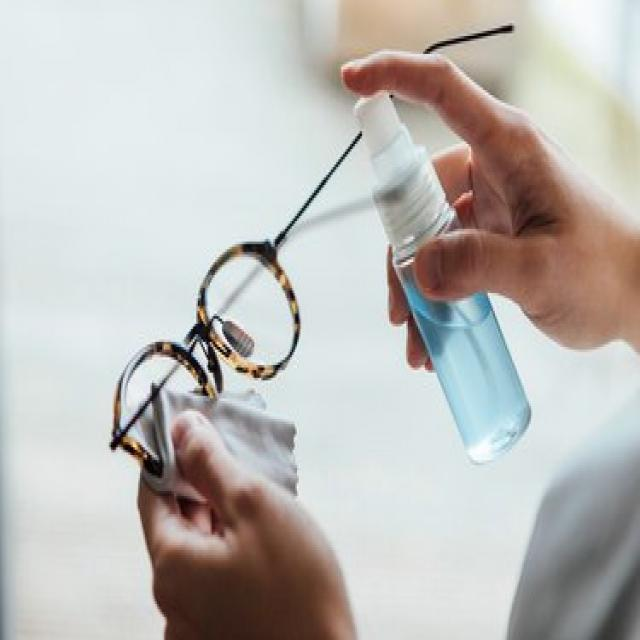glasses: (80, 89, 449, 538)
